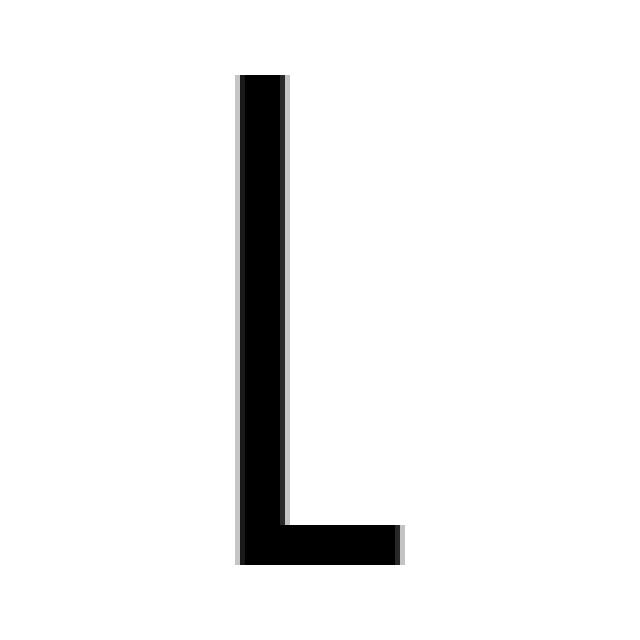L: (225, 65, 405, 565)
